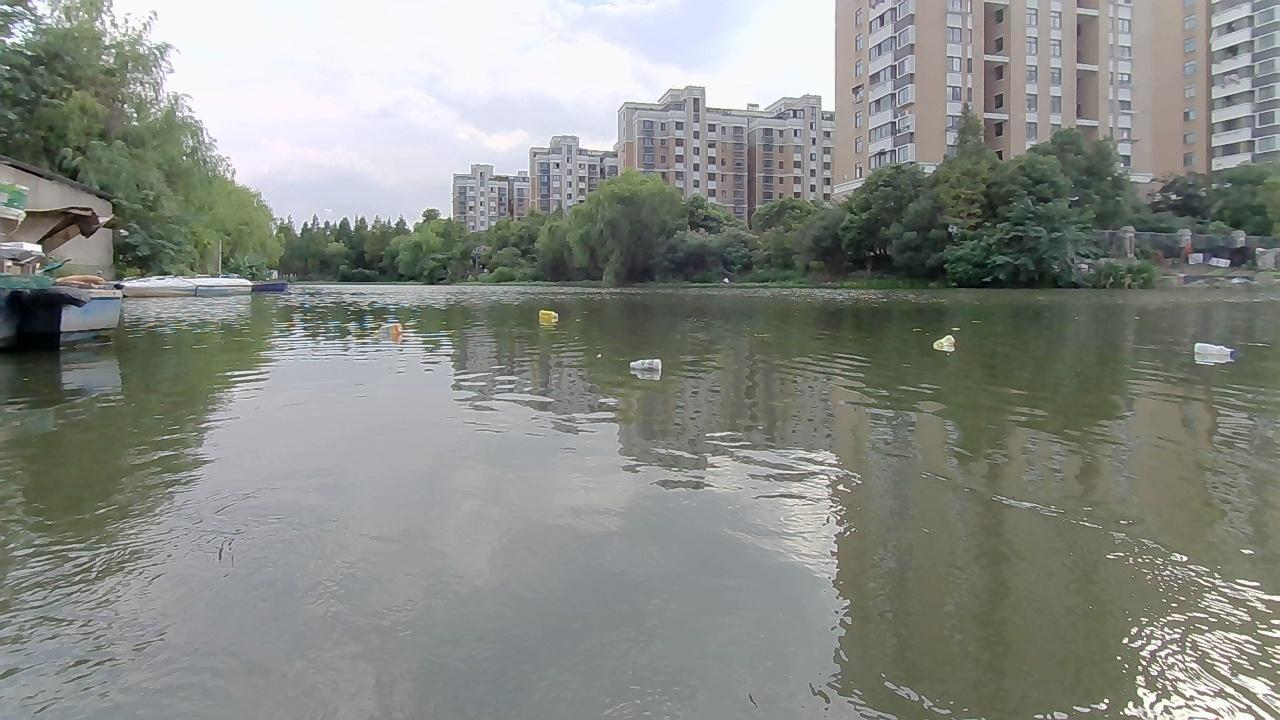bottle: (1193, 340, 1240, 363), (624, 355, 662, 375), (931, 333, 953, 355), (371, 320, 401, 336), (533, 307, 559, 322)
